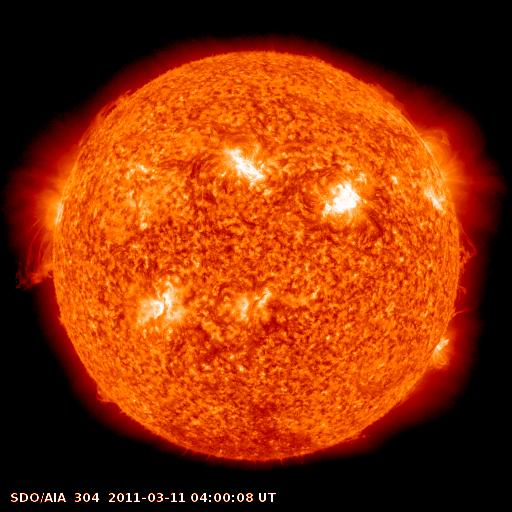prominence: (5, 220, 71, 298), (68, 83, 142, 152), (437, 210, 486, 273), (365, 76, 412, 123), (77, 376, 126, 417), (436, 278, 478, 323)
